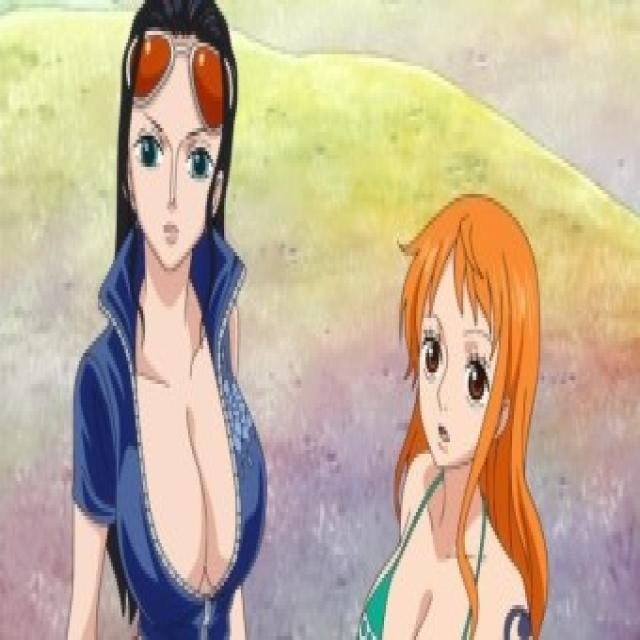Nami: (400, 217, 545, 486)
NicoRobin: (105, 0, 237, 315)
